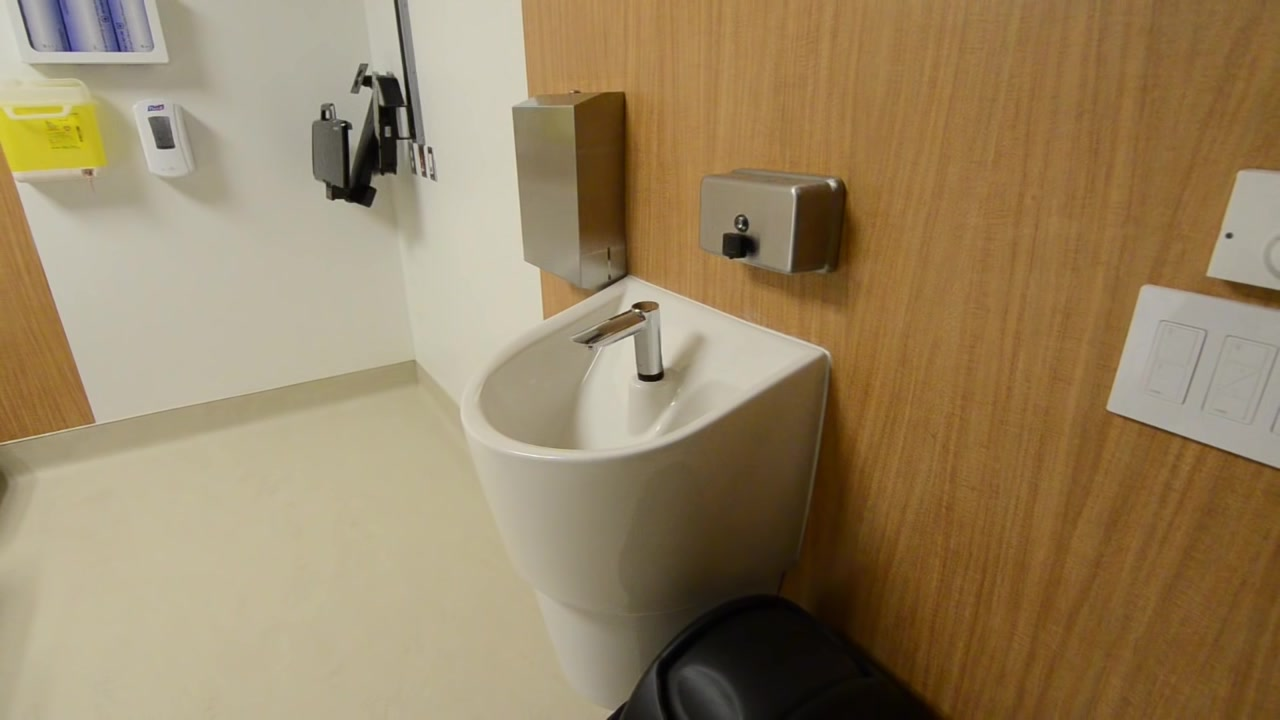dispenser: (511, 87, 629, 291), (10, 1, 163, 64), (134, 96, 197, 180)
faucet: (572, 298, 668, 378)
medical_waste_container: (1, 82, 100, 181)
sink: (458, 273, 833, 712)
waste_bin: (602, 589, 941, 720)
